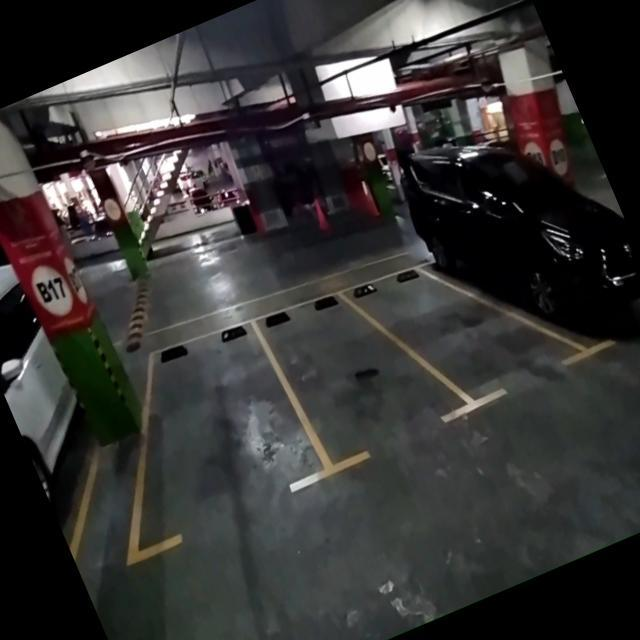empty: (89, 306, 327, 550), (253, 274, 433, 476), (368, 232, 541, 427)
